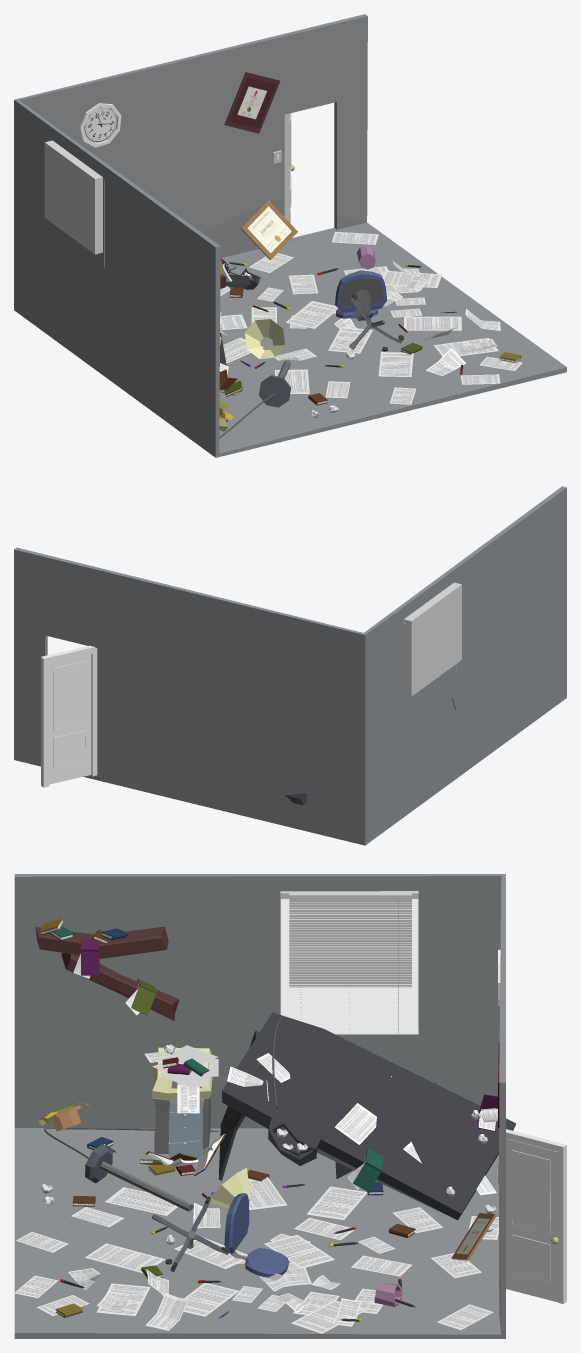
The model's file is room 1.fbx.
The picture shows the model from 3 angles, top to bottom: view 1: azimuth 30°, elevation 25°; view 2: azimuth 150°, elevation 25°; view 3: azimuth 270°, elevation 25°; orthographic projection. The views are drawn at different scales.
Visible parts, largest first — view 1: 3638, 2636, 301, 2790, 2577, 2509, 2530, 2141, 2204, 2608, 2498, 2193 (+4 smaller); view 2: 3638, 301, 2471, 2454, 2479; view 3: 3638, 2409, 2636, 117, 301, 2790, 2471, 2479, 3657, 2454, 3613, 3671 (+16 smaller).
Boxes of the visible parts, box(x1,y1,x2,y2) form: 3638: box(14, 14, 566, 457); 2636: box(220, 270, 522, 404); 301: box(44, 140, 102, 254); 2790: box(220, 232, 428, 328); 2577: box(245, 319, 284, 358); 2509: box(247, 206, 291, 253); 2530: box(224, 72, 279, 128); 2141: box(84, 107, 117, 143); 2204: box(340, 278, 383, 305); 2608: box(258, 375, 290, 407); 2498: box(240, 199, 297, 260); 2193: box(335, 270, 387, 312); 3638: box(14, 486, 566, 845); 301: box(403, 582, 461, 696); 2471: box(49, 654, 91, 784); 2454: box(41, 645, 97, 787); 2479: box(54, 662, 84, 729); 3638: box(14, 874, 505, 1338); 2409: box(222, 1012, 516, 1220); 2636: box(14, 1177, 367, 1333); 117: box(280, 898, 418, 1032); 301: box(289, 893, 411, 987); 2790: box(232, 1207, 498, 1329); 2471: box(506, 1138, 558, 1302); 2479: box(512, 1152, 549, 1233); 3657: box(35, 926, 168, 958); 2454: box(499, 1129, 566, 1303); 3613: box(168, 1099, 203, 1158); 3671: box(61, 953, 179, 1020).
Bounding box in the file's own units: 913 × 509 × 995.
